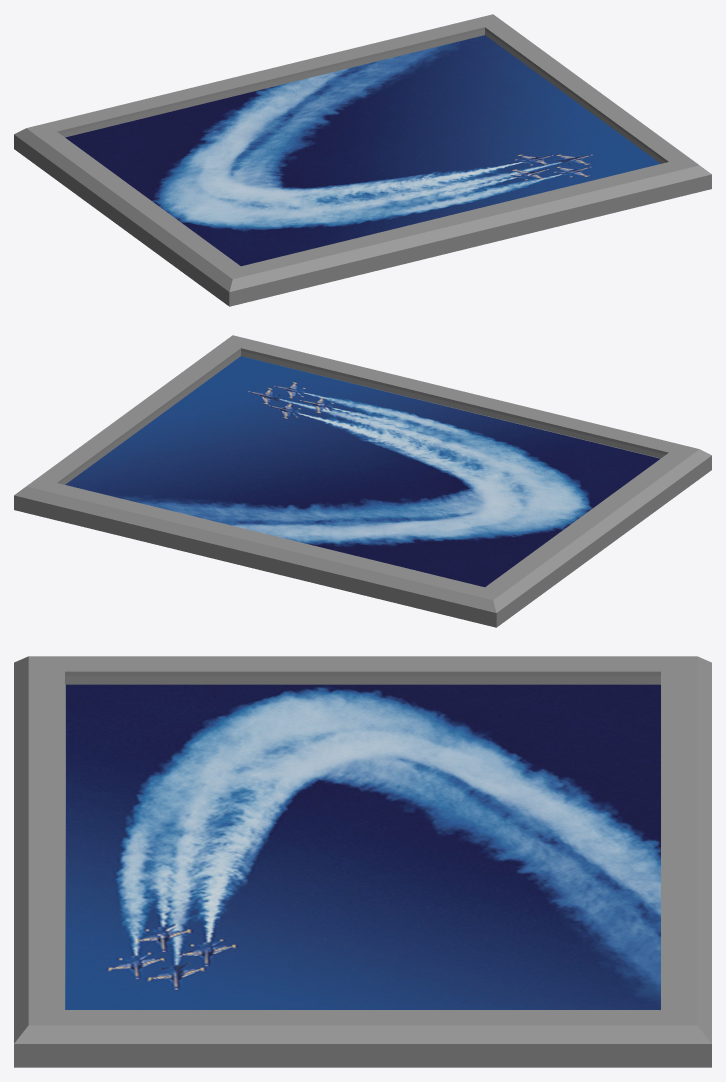
File: poster frame 2.FBX
The picture shows the model from 3 angles, top to bottom: view 1: azimuth 30°, elevation 25°; view 2: azimuth 150°, elevation 25°; view 3: azimuth 270°, elevation 25°; orthographic projection. The views are drawn at different scales.
Parts seen in each view (by area): view 1: Box002; view 2: Box002; view 3: Box002.
Boxes of the visible parts, <box> form: Box002: <box>14,14,711,306</box>; Box002: <box>14,335,711,627</box>; Box002: <box>14,656,711,1067</box>.
Size of the model in its own units: 17.73 by 0.7823 by 13.71.
